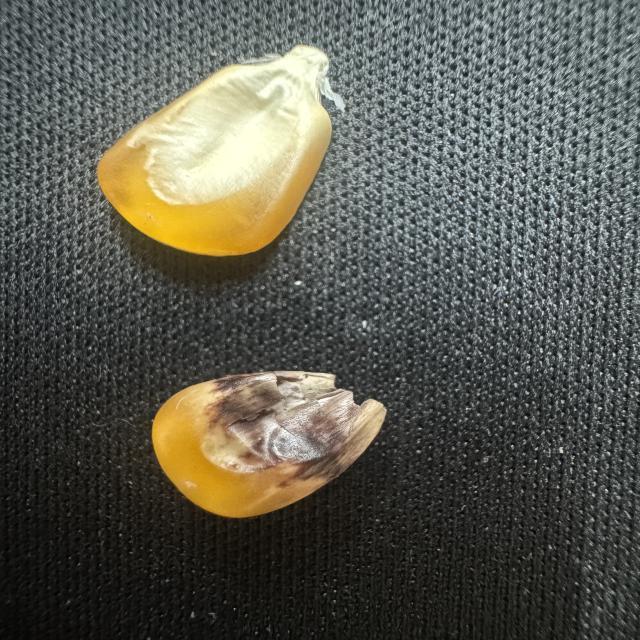Bad-Seed: (144, 365, 392, 522)
Good-Seed: (90, 41, 348, 262)
